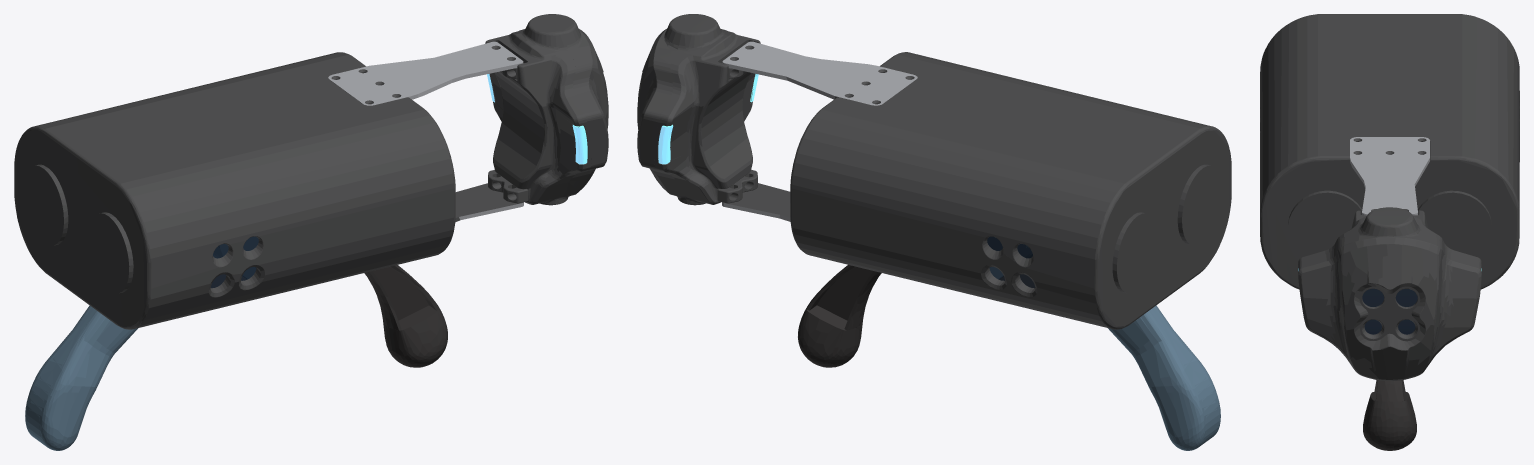
Rendered from perro-go1.glb.
The picture shows the model from 3 angles, left to right: view 1: azimuth 30°, elevation 25°; view 2: azimuth 150°, elevation 25°; view 3: azimuth 270°, elevation 25°; orthographic projection. The views are drawn at different scales.
Parts seen in each view (by area): view 1: tronco, muslo2, pierna2, muslo3, pierna0; view 2: tronco, muslo1, pierna3, muslo3, muslo2, pierna0, pierna1, pierna2; view 3: tronco, pierna1, pierna2.
Boxes of the visible parts, x1=… form: tronco: x1=14, y1=14, x2=608, y2=329; muslo2: x1=28, y1=237, x2=258, y2=450; pierna2: x1=369, y1=265, x2=445, y2=365; muslo3: x1=25, y1=305, x2=113, y2=444; pierna0: x1=364, y1=267, x2=436, y2=367; tronco: x1=637, y1=14, x2=1231, y2=329; muslo1: x1=987, y1=237, x2=1200, y2=450; pierna3: x1=803, y1=265, x2=874, y2=363; muslo3: x1=990, y1=246, x2=1217, y2=449; muslo2: x1=1150, y1=305, x2=1220, y2=443; pierna0: x1=806, y1=266, x2=881, y2=367; pierna1: x1=798, y1=265, x2=876, y2=366; pierna2: x1=806, y1=305, x2=865, y2=352; tronco: x1=1260, y1=14, x2=1519, y2=380; pierna1: x1=1365, y1=380, x2=1416, y2=450; pierna2: x1=1363, y1=380, x2=1407, y2=437.
Bounding box in the file's own units: 0.2848 × 0.149 × 0.1186.
